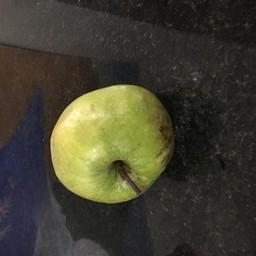Bad_apple: (47, 83, 175, 202)
